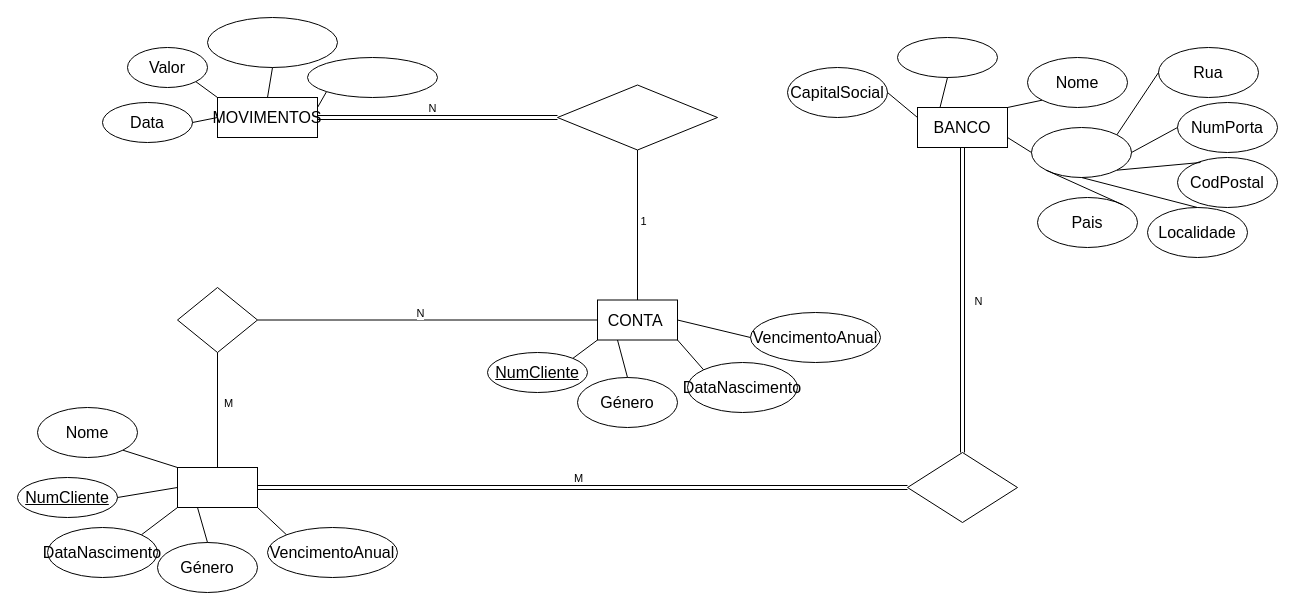
The diagram is 1295 pixels wide and 610 high, and some of its shapes have lost their labels. The shapes that lost their labels are listed below. From the top down, each one's centre as x and y in pixels, then its label:
At point (272, 42): "TipoMovimento".
At point (947, 57): "SwiftCode".
At point (372, 77): "NumMovimento".
At point (637, 117): "MOVIMENTOS_DE".
At point (1081, 152): "Morada".
At point (217, 319): "CONTA_DE".
At point (217, 487): "CLIENTE".
At point (962, 487): "PERTENCE_A".
